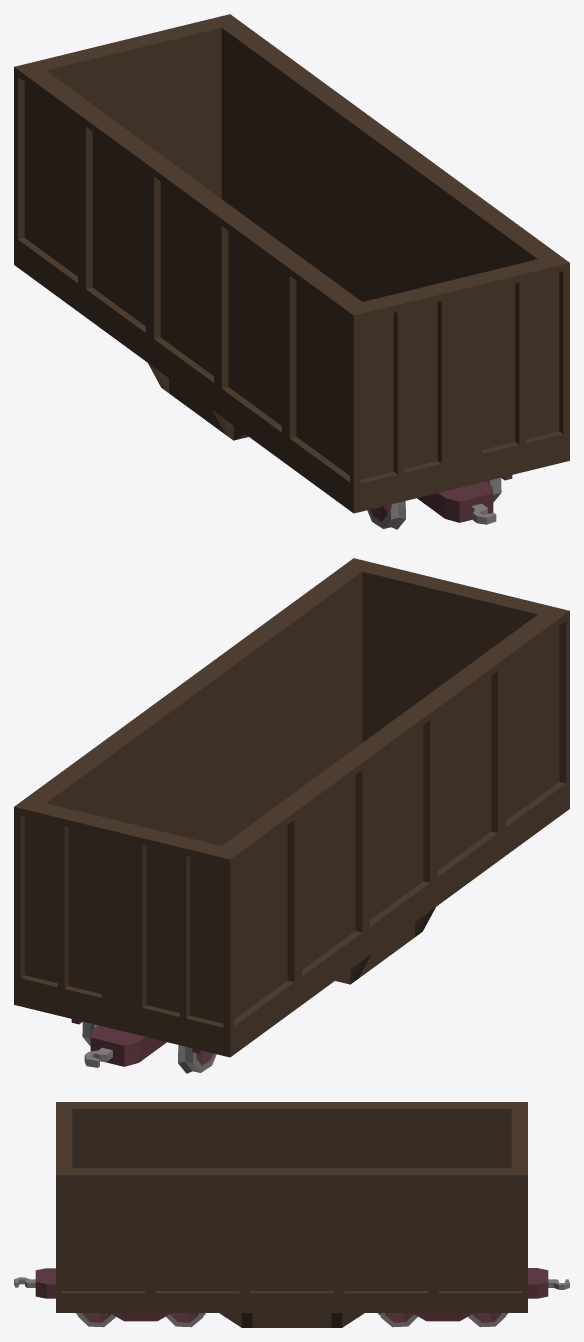
The model's file is train-wagon-hopper.fbx.
3 views of the same model, one above another, from view 1: azimuth 30°, elevation 25°; view 2: azimuth 150°, elevation 25°; view 3: azimuth 270°, elevation 25° (orthographic). The views are drawn at different scales.
Parts seen in each view (by area): view 1: train-wagon-hopper-base, train-wagon-hopper-wheel_F1; view 2: train-wagon-hopper-base, train-wagon-hopper-wheel_B2; view 3: train-wagon-hopper-base, train-wagon-hopper-wheel-frame_F, train-wagon-hopper-wheel-frame_B, train-wagon-hopper-wheel_F2, train-wagon-hopper-wheel_B1, train-wagon-hopper-wheel_F1, train-wagon-hopper-wheel_B2.
Boxes of the visible parts, left/top/right/bottom form: train-wagon-hopper-base: left=14, top=14, right=569, bottom=524; train-wagon-hopper-wheel_F1: left=367, top=477, right=501, bottom=529; train-wagon-hopper-base: left=14, top=558, right=569, bottom=1067; train-wagon-hopper-wheel_B2: left=82, top=1021, right=216, bottom=1073; train-wagon-hopper-base: left=14, top=1102, right=569, bottom=1327; train-wagon-hopper-wheel-frame_F: left=110, top=1313, right=171, bottom=1321; train-wagon-hopper-wheel-frame_B: left=412, top=1313, right=473, bottom=1321; train-wagon-hopper-wheel_F2: left=166, top=1313, right=205, bottom=1327; train-wagon-hopper-wheel_B1: left=378, top=1313, right=417, bottom=1327; train-wagon-hopper-wheel_F1: left=76, top=1313, right=115, bottom=1327; train-wagon-hopper-wheel_B2: left=468, top=1313, right=507, bottom=1327.
Size of the model in its own units: 3.2 by 3.5 by 10.26.
